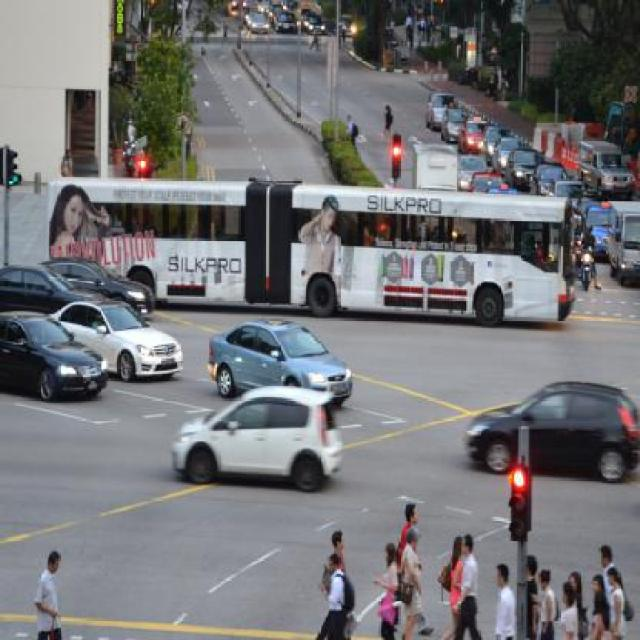Person: (394, 504, 435, 633), (49, 182, 113, 261), (300, 193, 342, 307), (456, 532, 484, 638), (440, 535, 468, 639), (32, 550, 62, 638), (332, 530, 354, 639), (375, 542, 399, 640), (318, 552, 345, 639), (530, 572, 556, 639), (575, 224, 602, 288), (496, 562, 518, 638), (568, 568, 588, 640), (610, 566, 628, 640), (590, 590, 615, 639), (558, 578, 578, 639), (526, 554, 540, 638), (486, 63, 508, 109), (600, 545, 615, 604), (590, 570, 608, 615), (346, 114, 362, 157), (417, 12, 435, 39), (61, 149, 73, 177), (309, 27, 322, 50), (574, 213, 583, 244), (384, 104, 391, 142), (404, 13, 410, 39), (340, 28, 348, 46), (339, 29, 344, 53), (391, 18, 395, 30)
